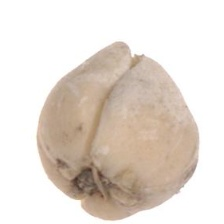L1: (60, 163, 122, 198), (108, 40, 157, 65)
L2: (37, 41, 200, 220)
